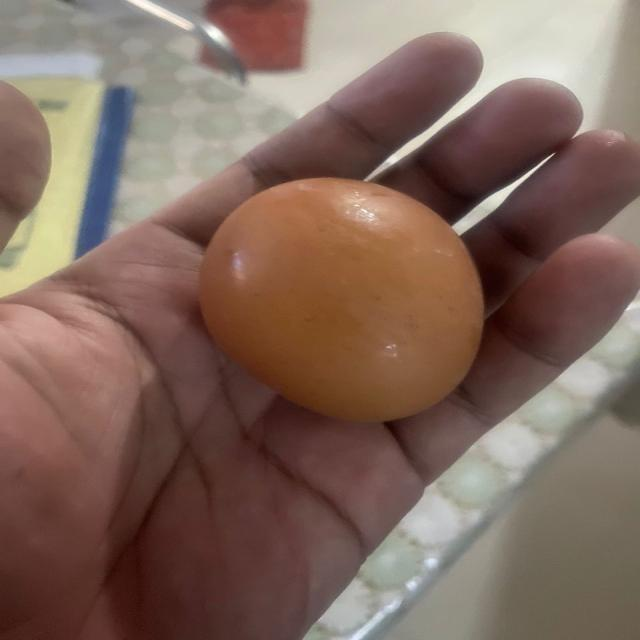egg: (193, 176, 487, 430)
